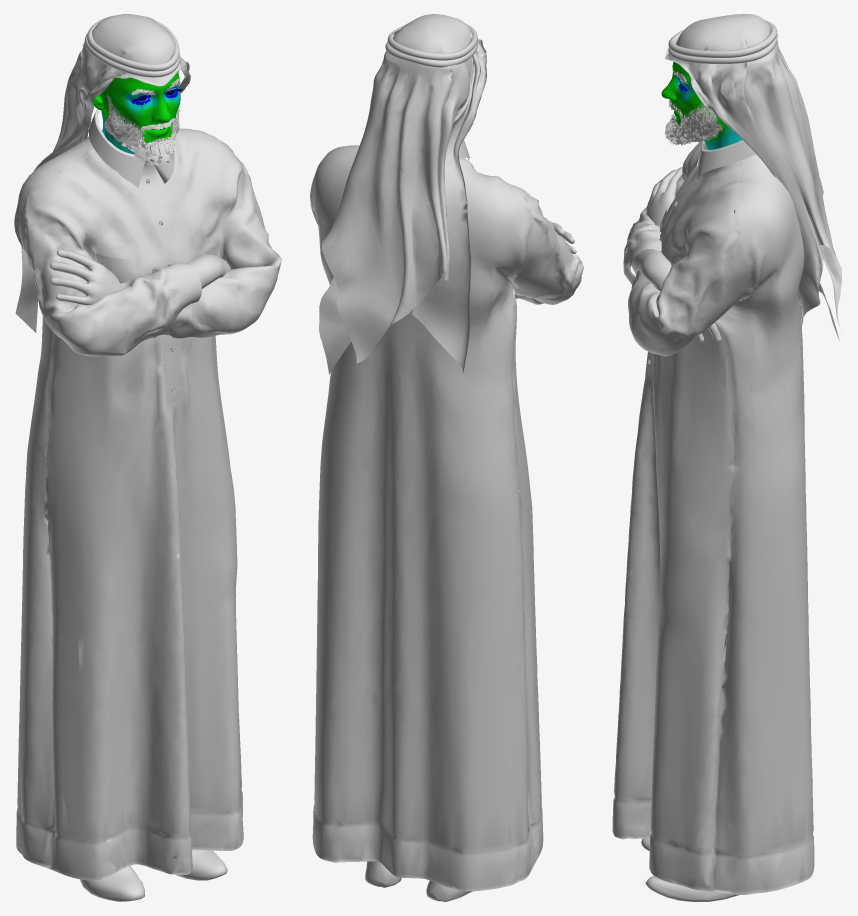
The model's file is arab_new.glb.
3 views of the same model, side by side, from view 1: azimuth 30°, elevation 25°; view 2: azimuth 150°, elevation 25°; view 3: azimuth 270°, elevation 25° (orthographic).
Visible parts, largest first — view 1: Robe, Keffiyeah, Face, Arms, Legs, Beard, Agal1, Agal2; view 2: Robe, Keffiyeah, Legs, Agal1, Agal2; view 3: Robe, Keffiyeah, Arms, Face, Beard, Legs, Agal1, Agal2.
Boxes of the visible parts, left/top/right/bottom form: Robe: left=14, top=109, right=281, bottom=880; Keffiyeah: left=15, top=14, right=190, bottom=332; Face: left=92, top=72, right=180, bottom=154; Arms: left=50, top=224, right=230, bottom=305; Legs: left=80, top=849, right=227, bottom=901; Beard: left=103, top=95, right=180, bottom=165; Agal1: left=87, top=16, right=179, bottom=71; Agal2: left=84, top=33, right=180, bottom=77; Robe: left=310, top=140, right=583, bottom=891; Keffiyeah: left=319, top=14, right=486, bottom=374; Legs: left=365, top=861, right=472, bottom=901; Agal1: left=387, top=24, right=477, bottom=60; Agal2: left=385, top=41, right=477, bottom=67; Robe: left=612, top=140, right=814, bottom=894; Keffiyeah: left=665, top=14, right=842, bottom=340; Arms: left=629, top=167, right=762, bottom=342; Face: left=661, top=62, right=742, bottom=149; Beard: left=664, top=103, right=723, bottom=145; Legs: left=641, top=803, right=739, bottom=901; Agal1: left=668, top=20, right=777, bottom=57; Agal2: left=668, top=34, right=777, bottom=63.
Bounding box in the file's own units: 0.5501 × 1.92 × 0.4703.
